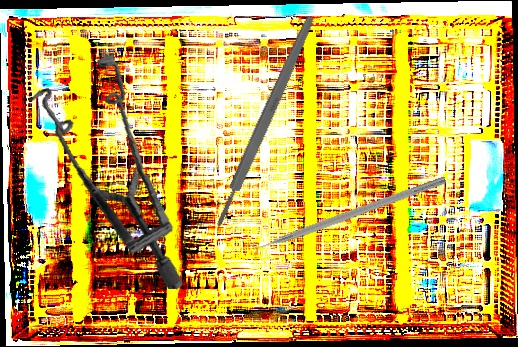Chopper: (239, 165, 447, 257)
Scalpel Handle: (211, 14, 318, 229)
Speculum: (8, 43, 211, 291)
